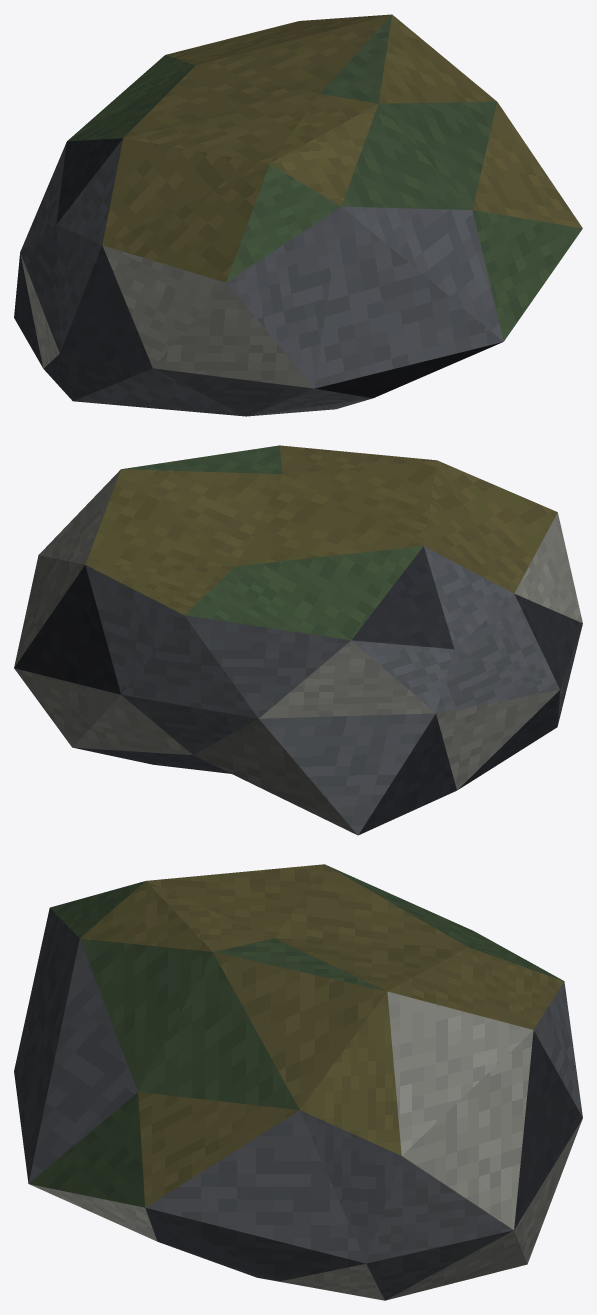
Rendered from rock_large.glb.
3 renders of one model, top to bottom at view 1: azimuth 30°, elevation 25°; view 2: azimuth 150°, elevation 25°; view 3: azimuth 270°, elevation 25°, orthographic. The views are drawn at different scales.
Parts seen in each view (by area): view 1: rock_large; view 2: rock_large; view 3: rock_large.
Part boxes in pixels (x1,y1,x2,y2): rock_large: [14, 14, 582, 416]; rock_large: [14, 445, 582, 835]; rock_large: [14, 864, 582, 1300].
Size of the model in its own units: 3.3 by 1.81 by 2.96.
1 material, 1 textured.
